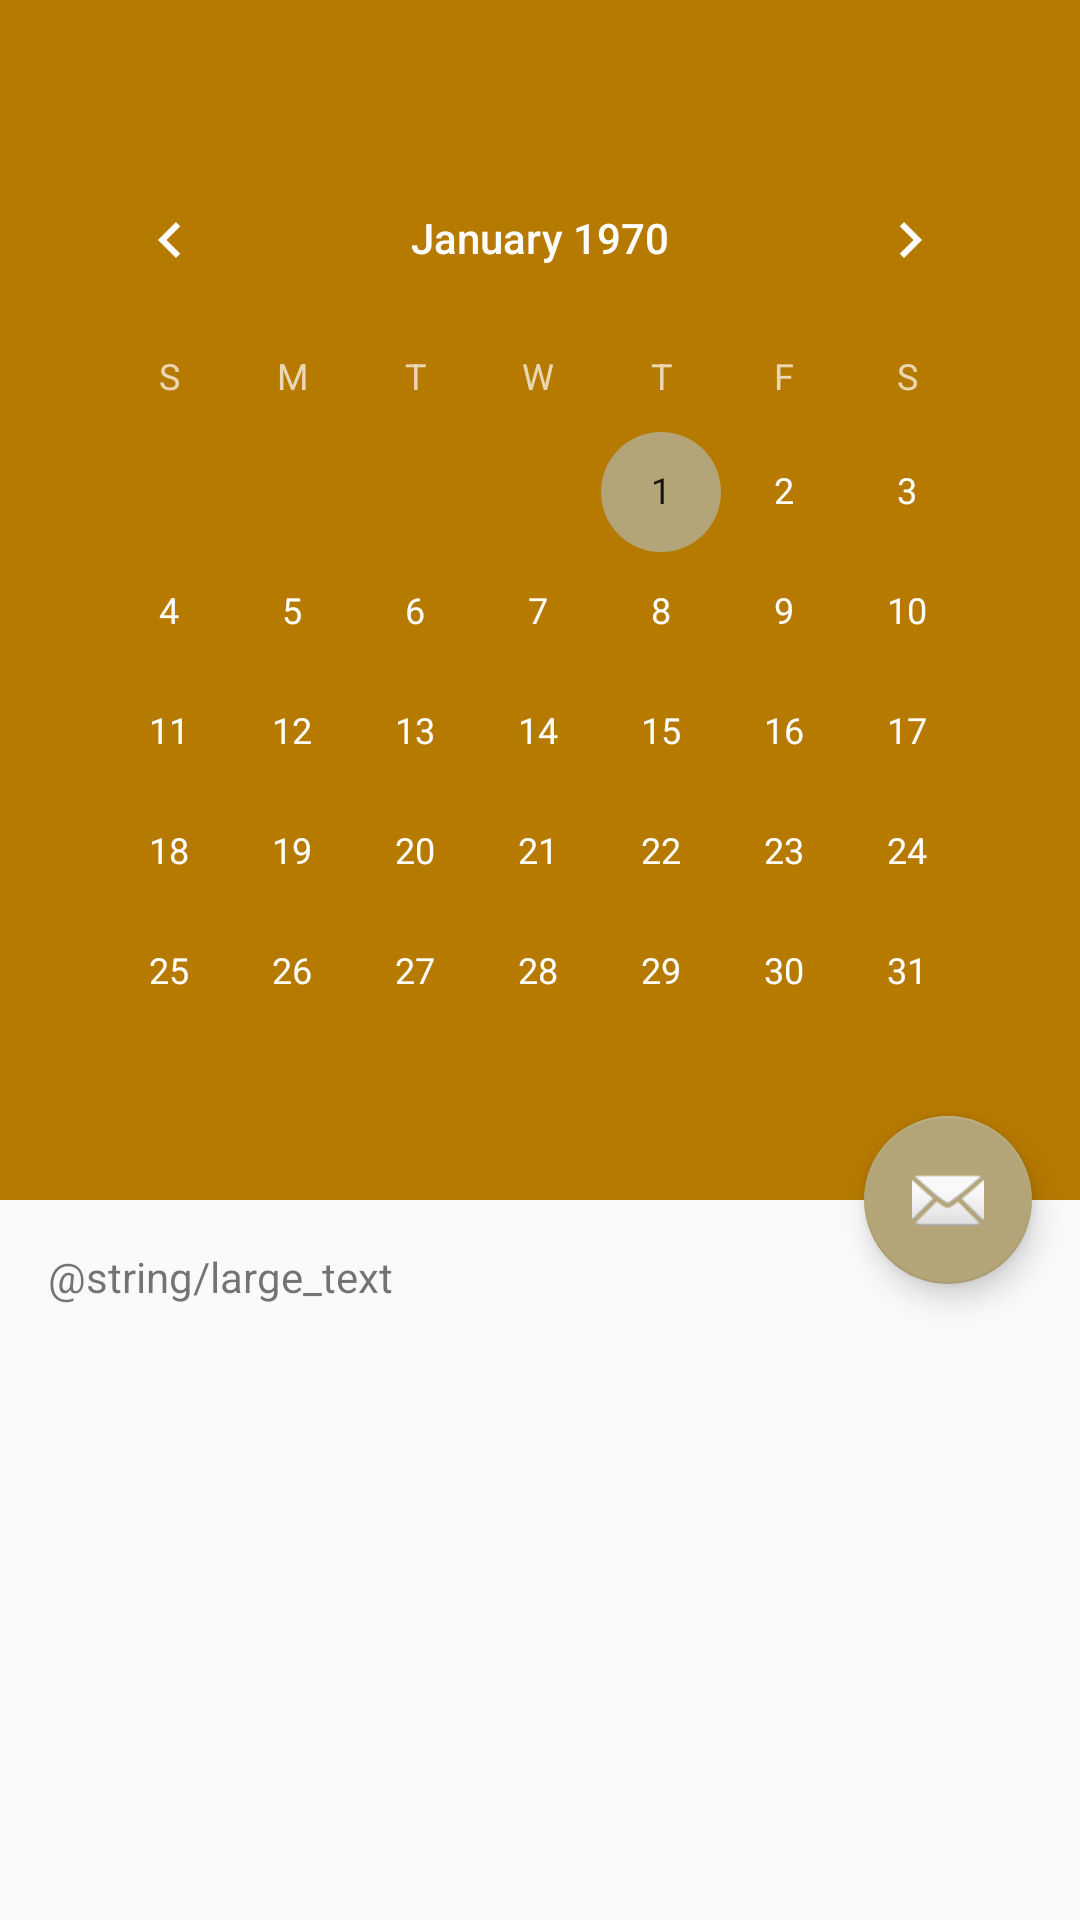

Point at icon controls on the screen. Image size 1080 × 1920, points as point (x, y).
email: point (948, 1200)
